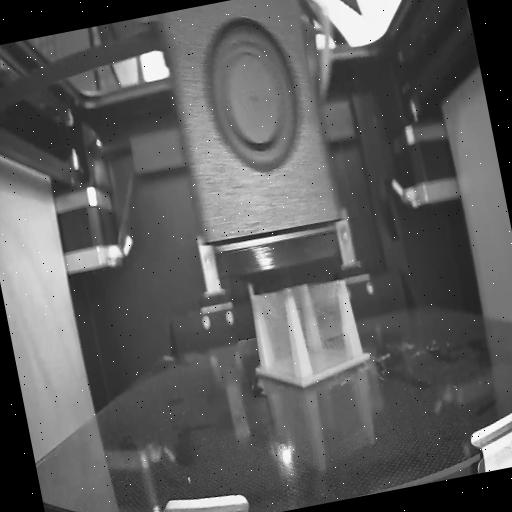stringing: (294, 274, 356, 382), (254, 288, 298, 388)
